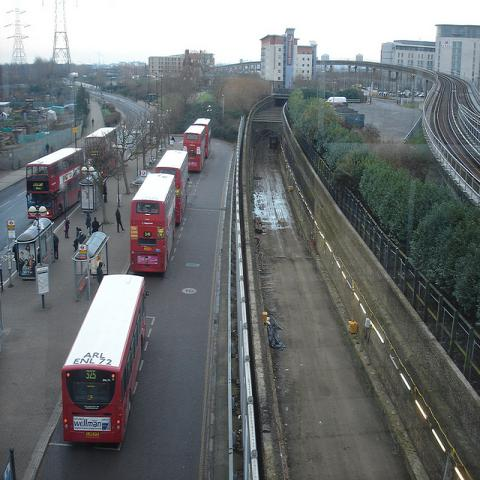bus: (61, 267, 149, 447), (24, 142, 88, 220), (130, 172, 176, 272), (154, 147, 190, 225), (84, 125, 118, 177), (180, 117, 212, 171)
